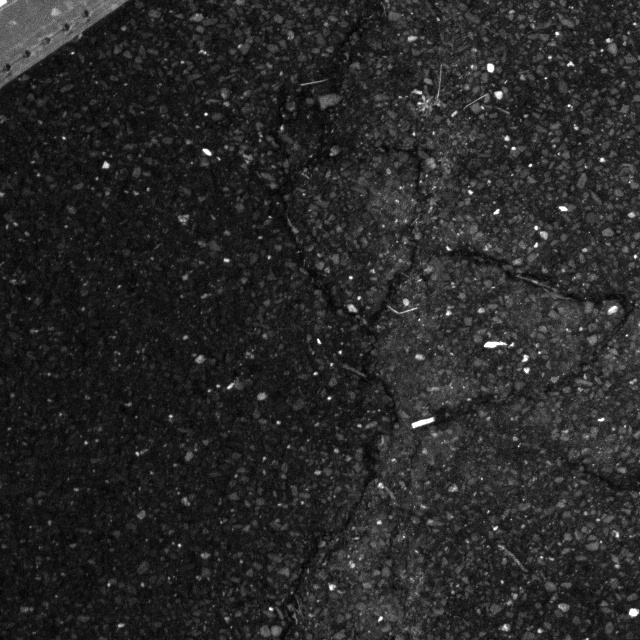container: (0, 0, 140, 123)
